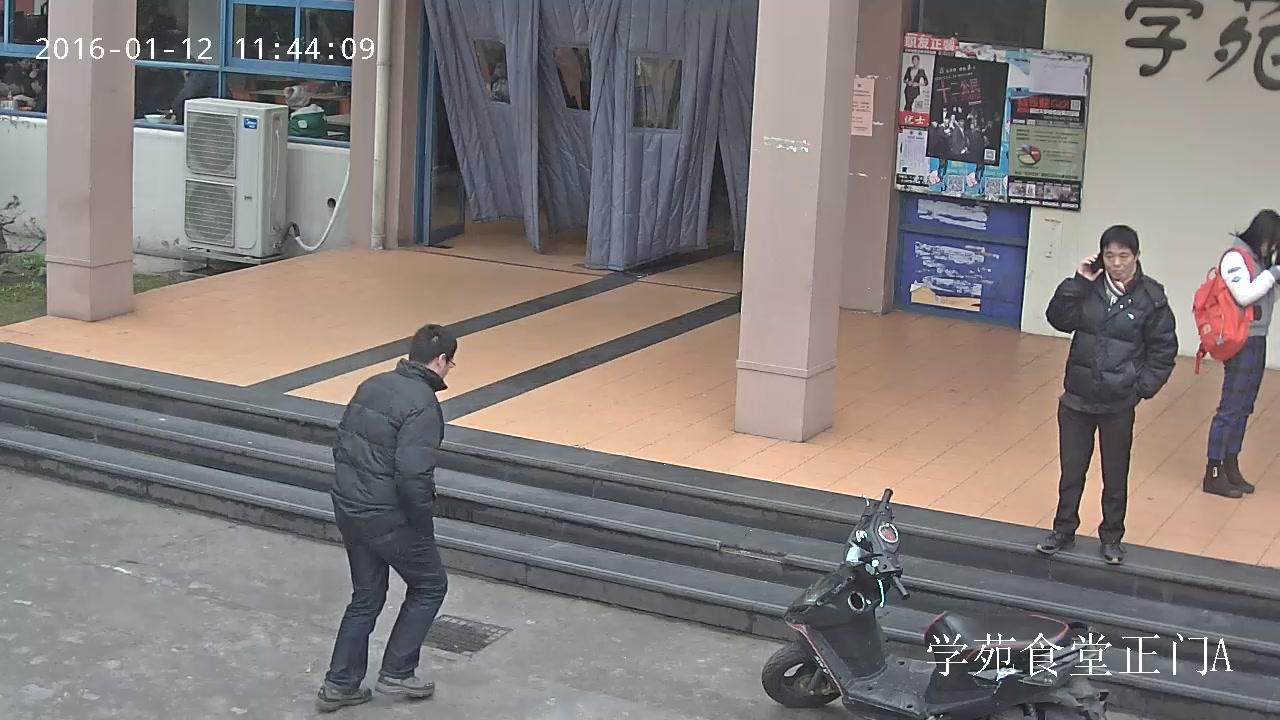person: (315, 323, 460, 711), (1033, 225, 1178, 565), (1192, 208, 1280, 500), (284, 85, 329, 139), (902, 54, 929, 111), (4, 58, 33, 94)
